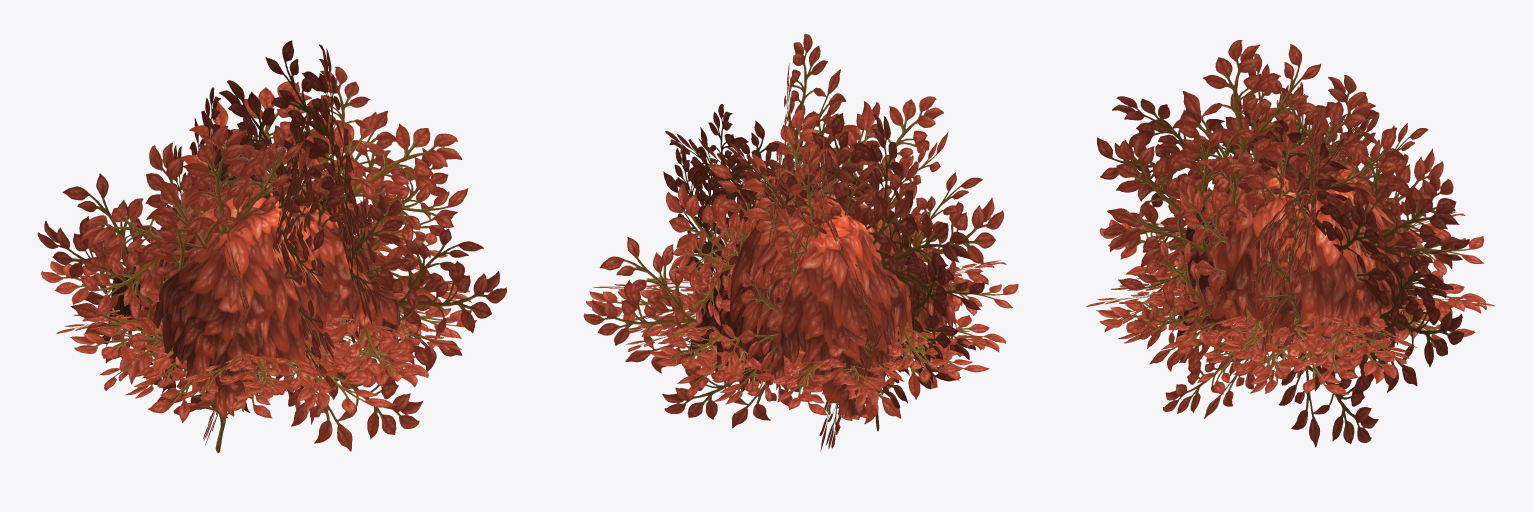
File: bushB.fbx
The picture shows the model from 3 angles, left to right: view 1: azimuth 30°, elevation 25°; view 2: azimuth 150°, elevation 25°; view 3: azimuth 270°, elevation 25°; orthographic projection. The views are drawn at different scales.
Parts seen in each view (by area): view 1: bushB; view 2: bushB; view 3: bushB.
Part boxes in pixels (bbox=[...]): bushB: bbox=[37, 40, 506, 452]; bushB: bbox=[583, 34, 1018, 451]; bushB: bbox=[1086, 40, 1494, 447].
Bounding box in the file's own units: 452 × 475 × 433.
1 material, 1 textured.
